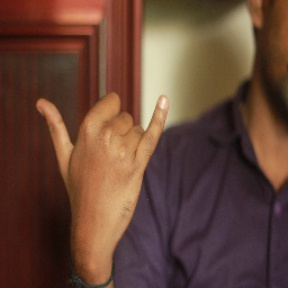J: (35, 67, 172, 234)
